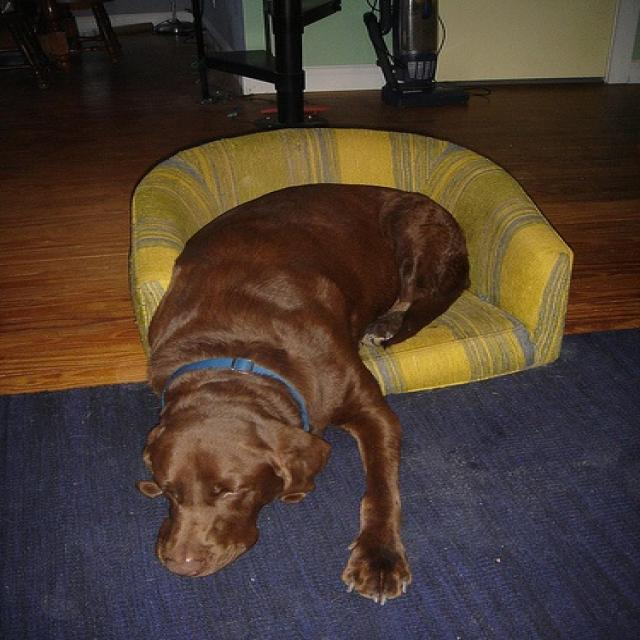dog: (132, 183, 480, 609)
